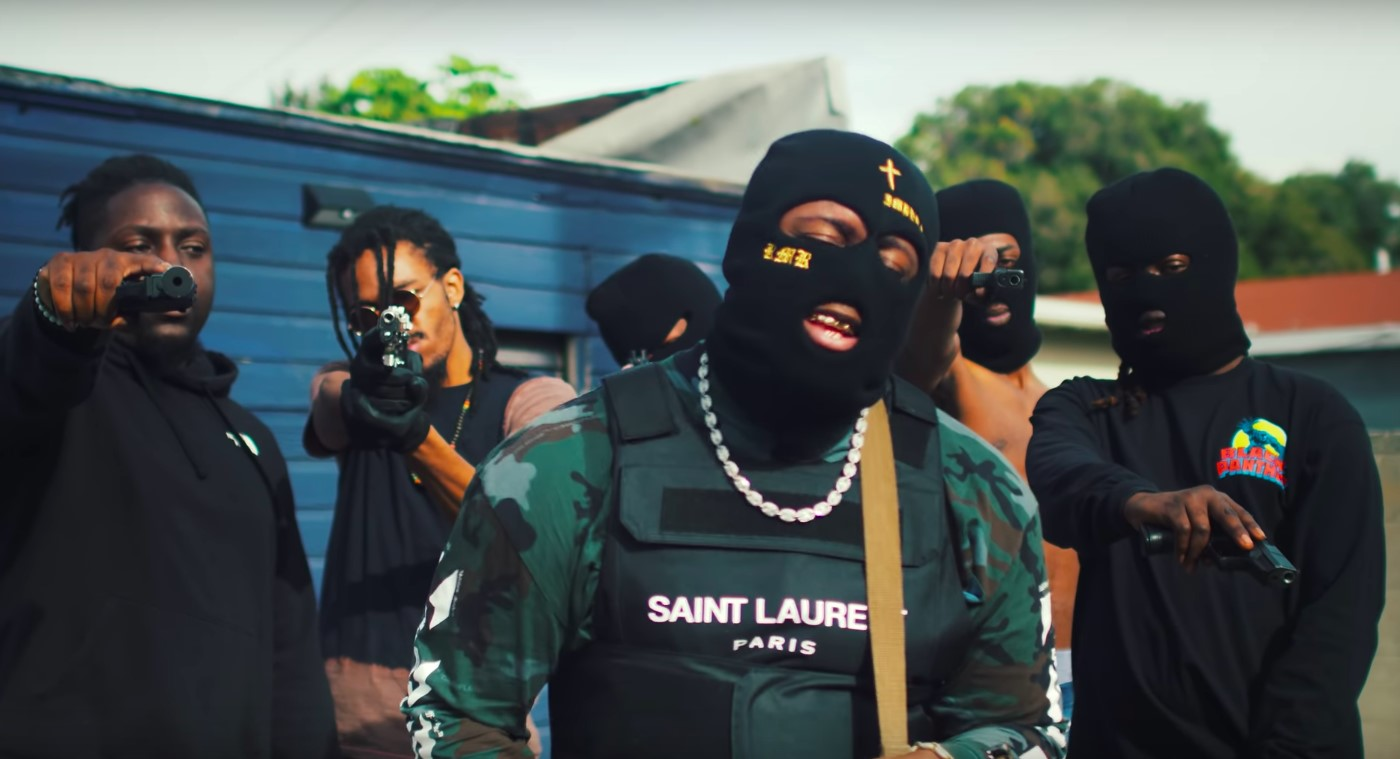face_no_mask: (59, 161, 218, 349)
